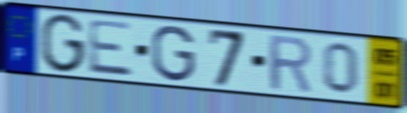0: (320, 41, 362, 97)
7: (206, 27, 246, 90)
E: (86, 17, 136, 79)
G: (39, 12, 87, 76), (149, 24, 197, 84)
R: (266, 33, 314, 96)
